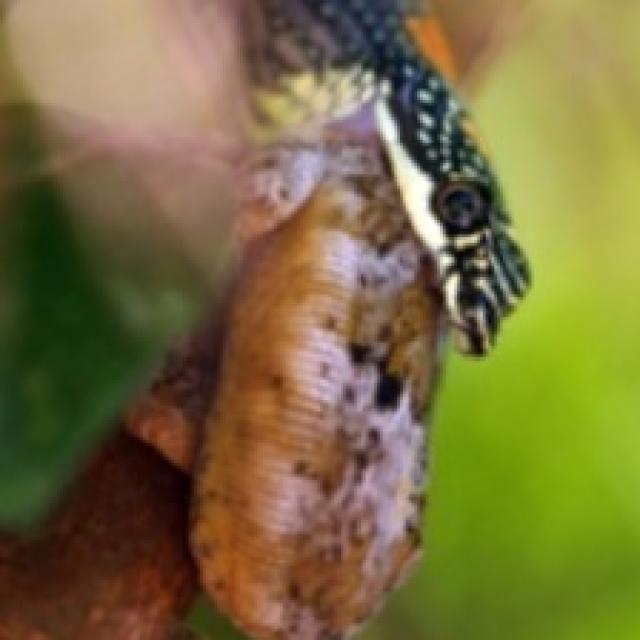paradise tree snake: (0, 0, 526, 637)
